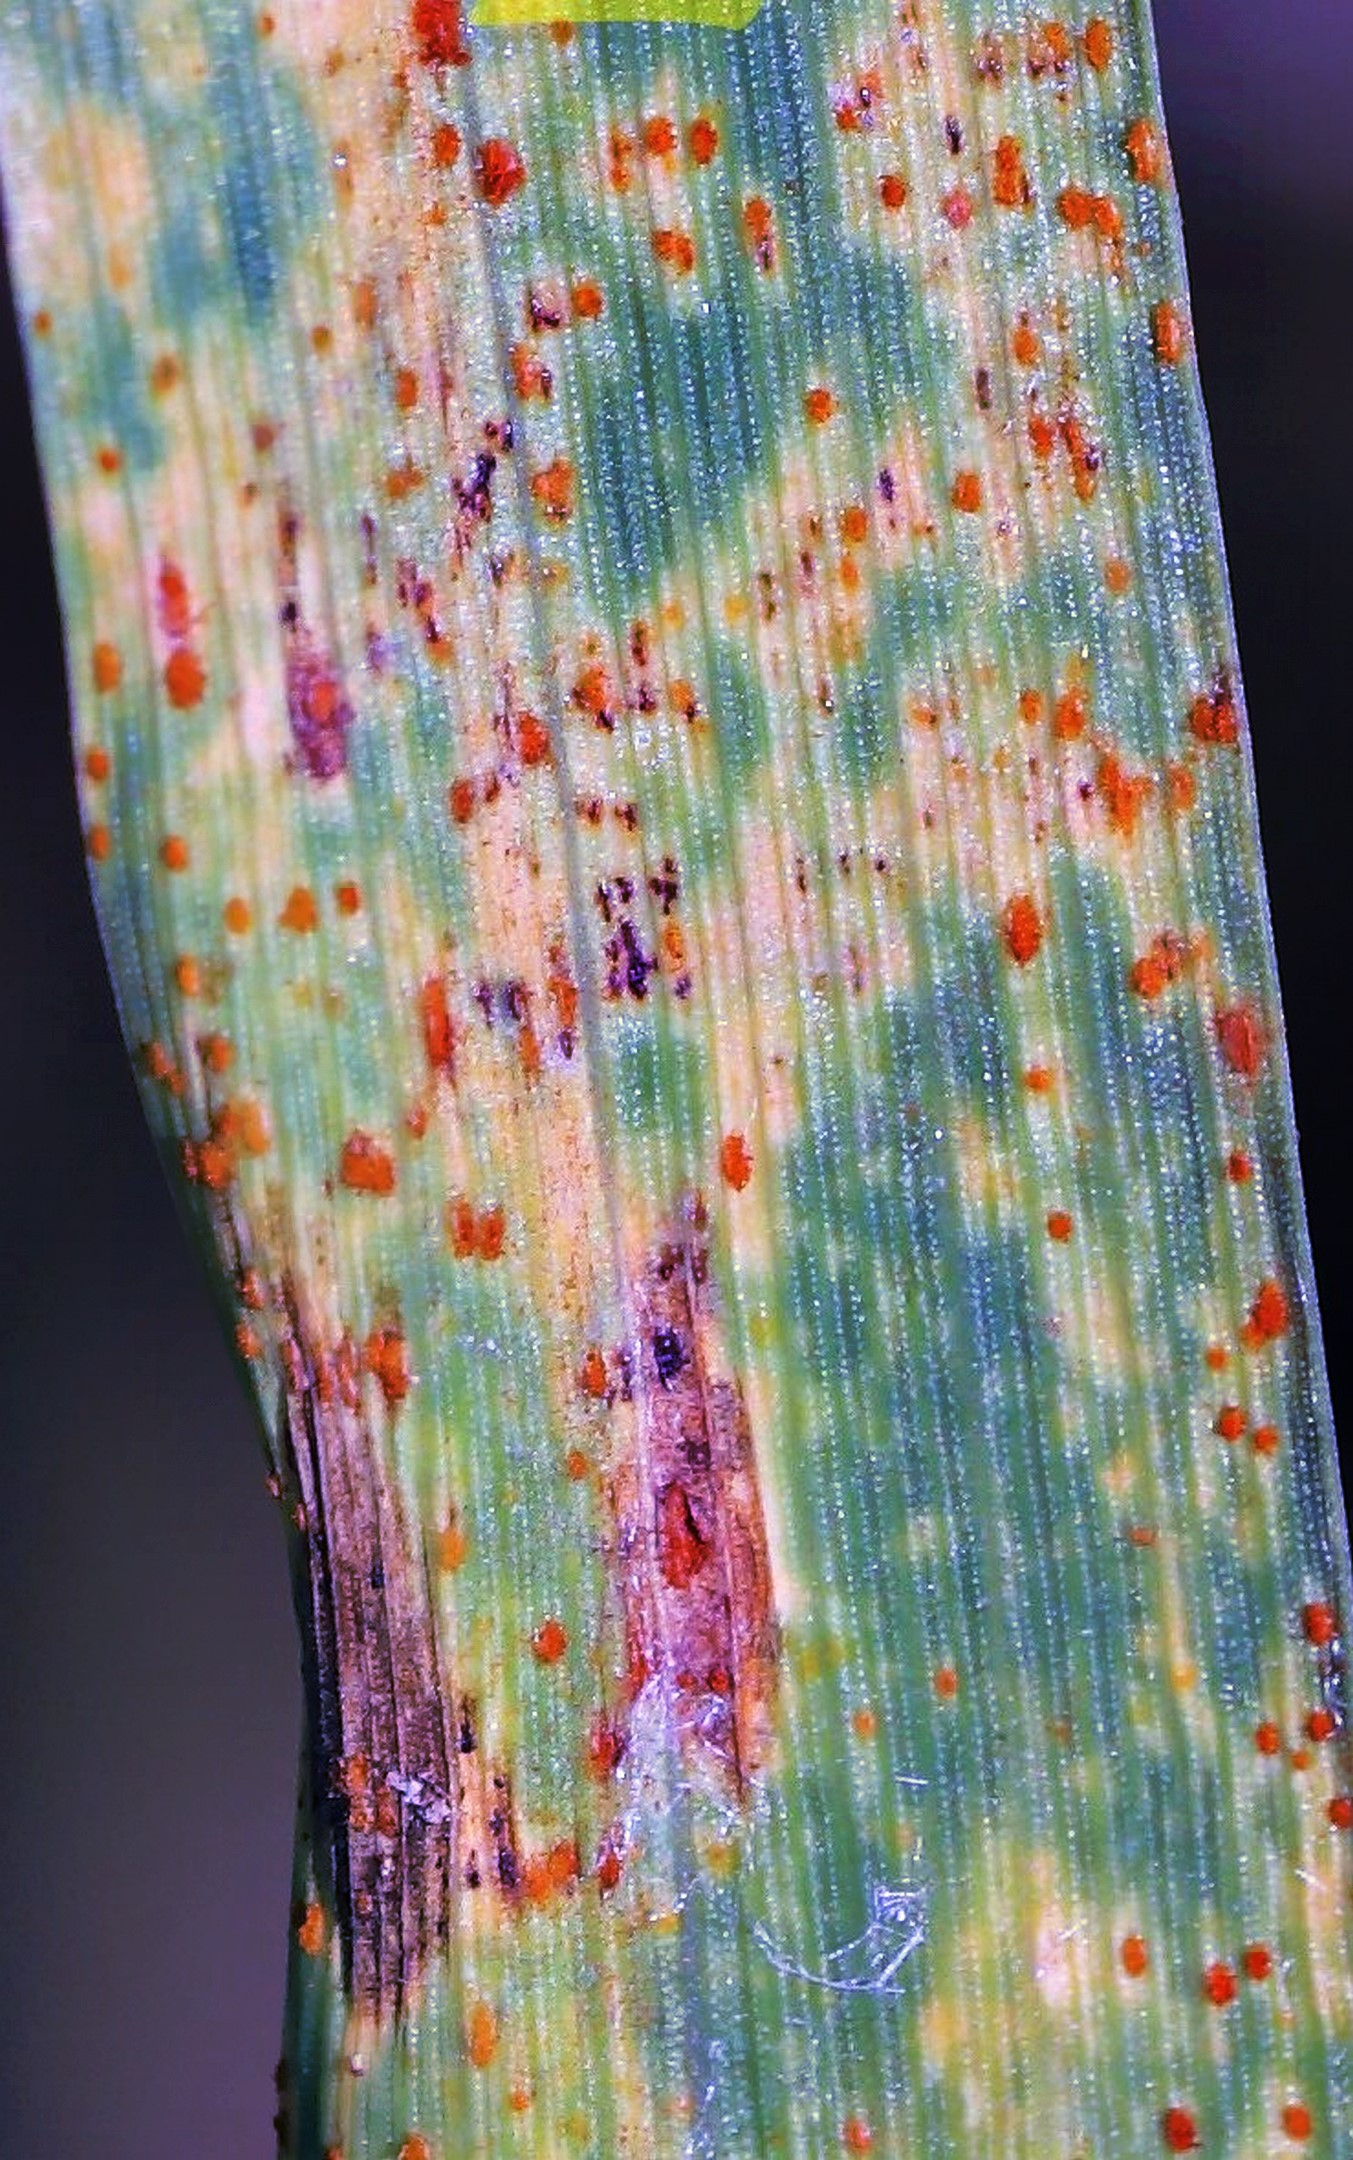Leaf Rust: (14, 2, 1283, 1638)
